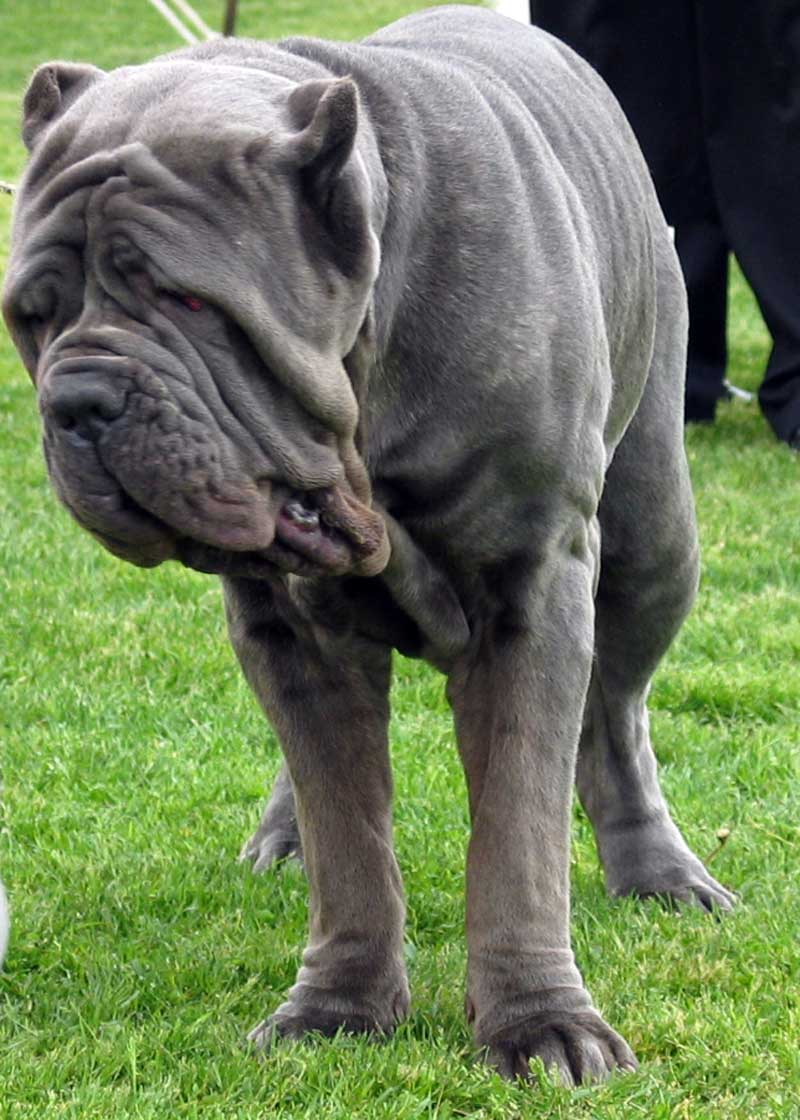neapolitan_mastiff: (0, 3, 743, 1097)
